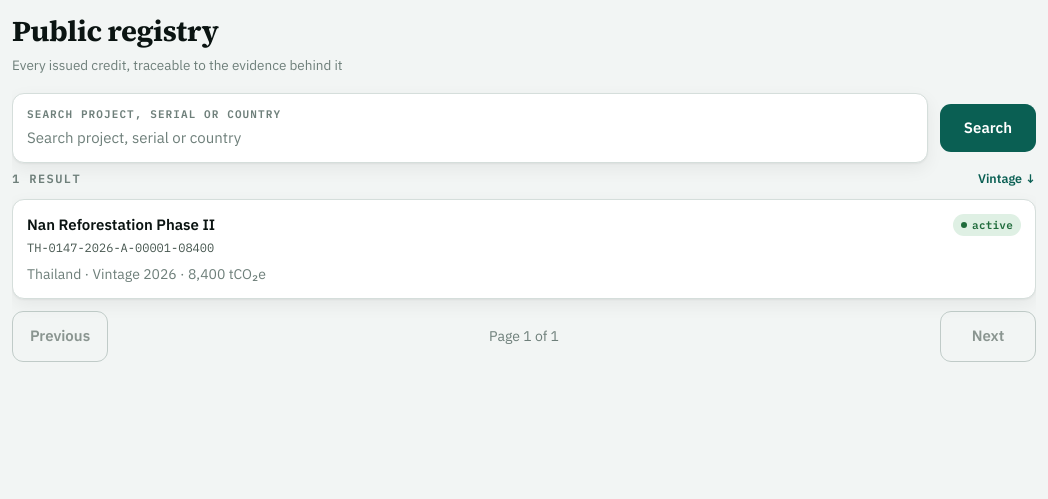
Test case: Public registry › handles missing traceability
Step 1. Click the button "Nan Reforestation" → (121, 224), box [13, 200, 1035, 298]
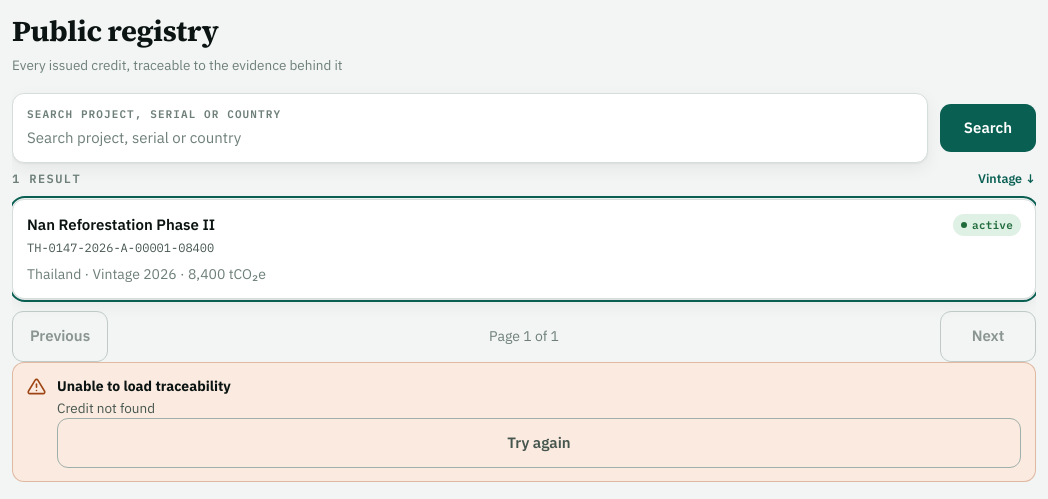
Expected: the message shows "Credit not found", [57, 399, 155, 417]
